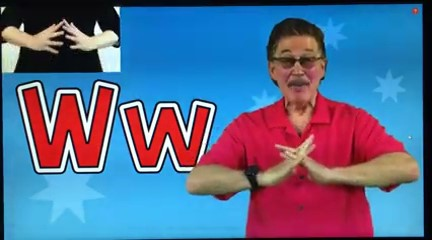W: (255, 129, 346, 188)
